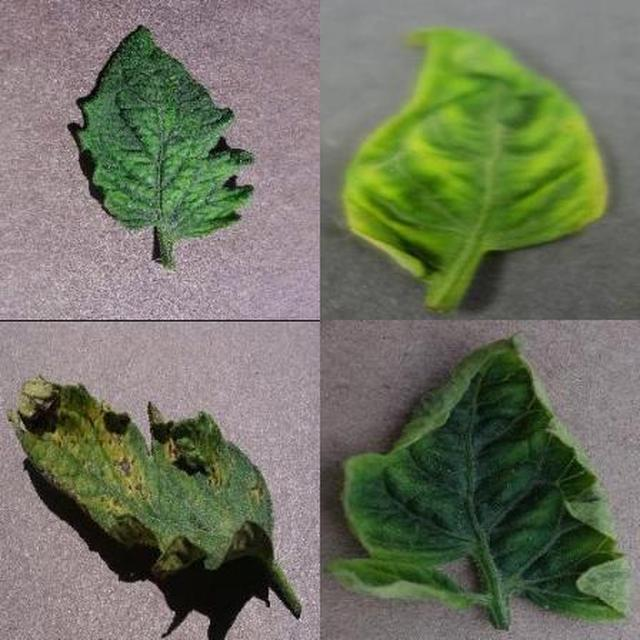Mosaic Virus Leaf: (202, 187, 640, 640)
